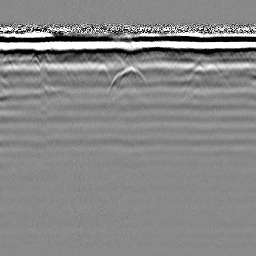cavity: (105, 62, 147, 100)
